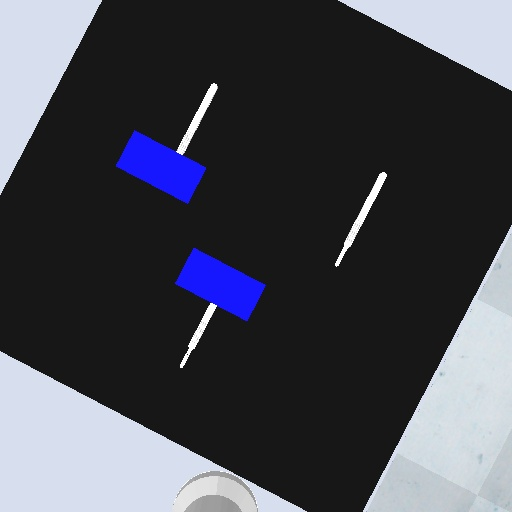bisturi: (333, 169, 389, 271), (174, 79, 221, 157), (177, 301, 220, 370)
